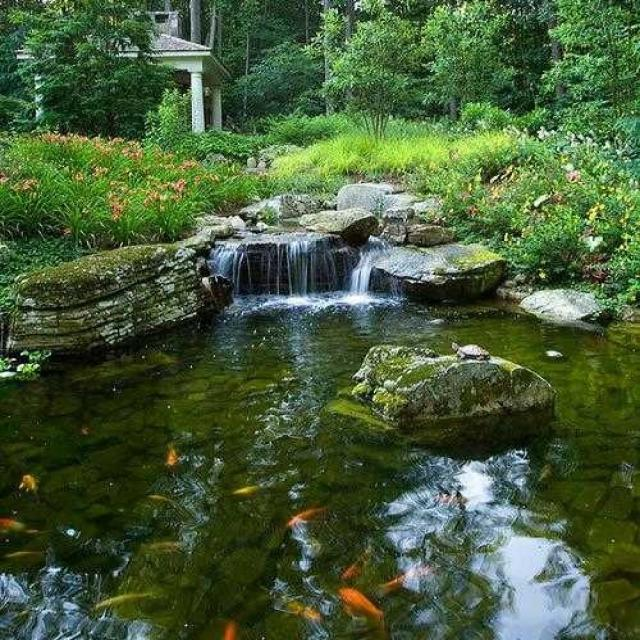Ponds: (2, 178, 640, 639)
